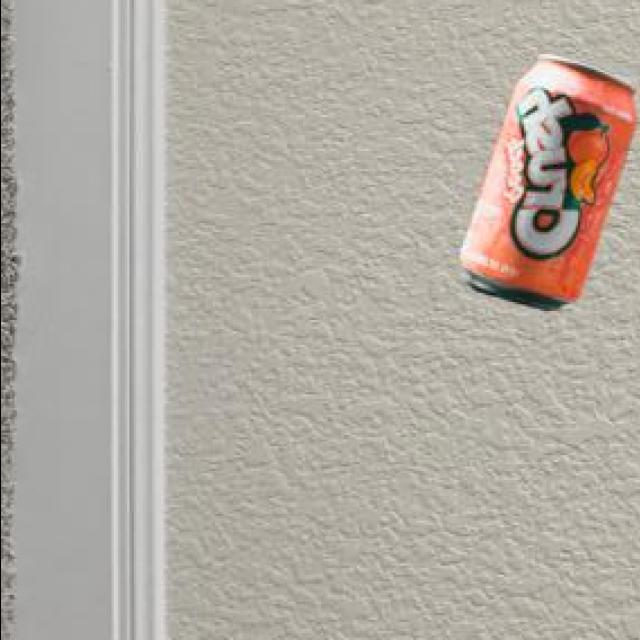logam: (463, 57, 639, 314)
